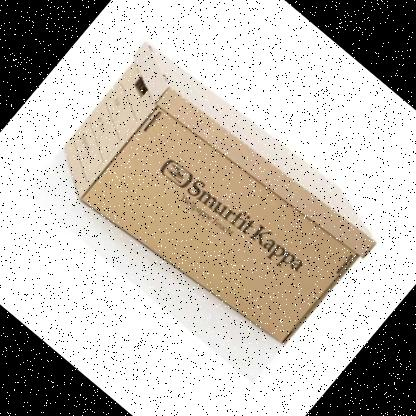box: (63, 41, 376, 345)
normal_hole: (133, 75, 148, 96)
